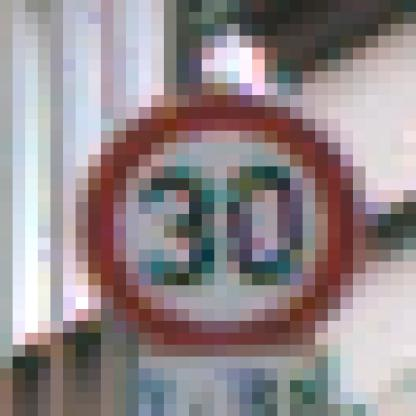Speed Limit 30: (85, 100, 350, 348)
